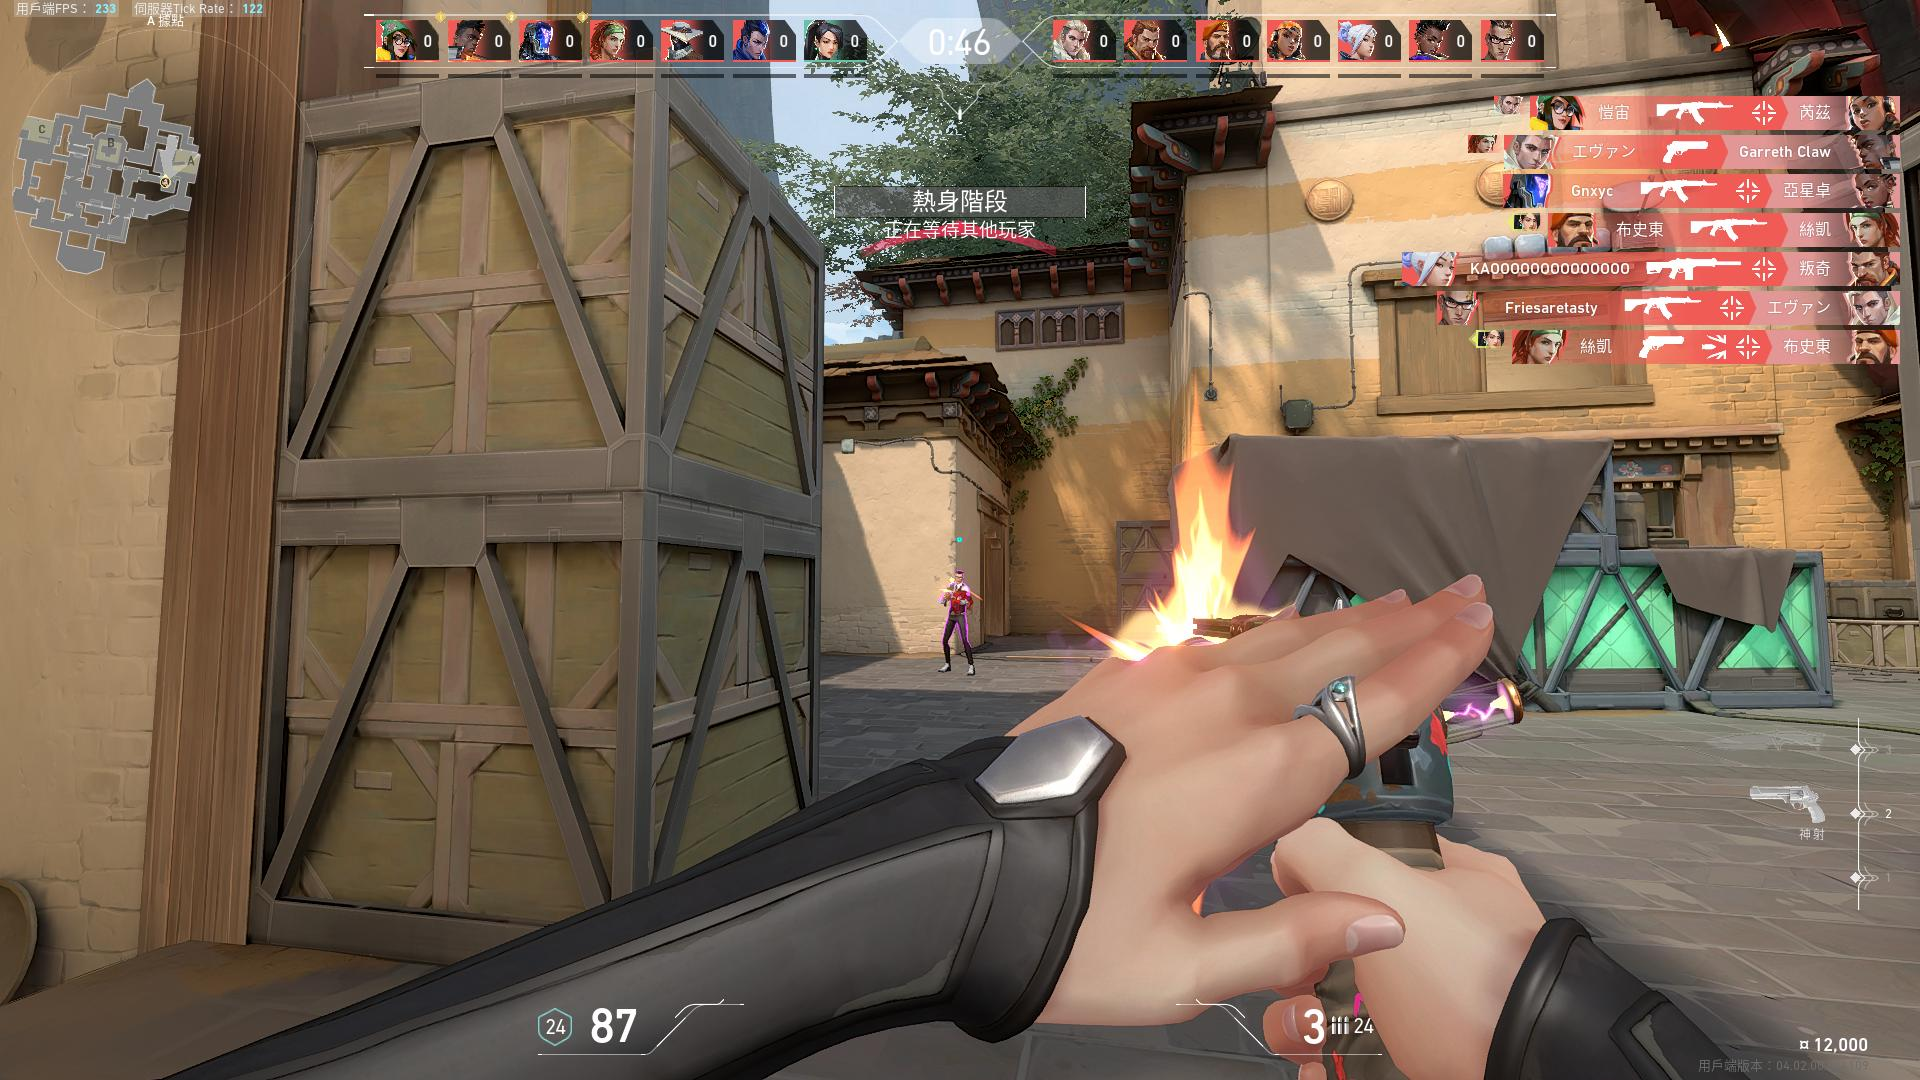enemyBody: (951, 585, 963, 612)
enemyHead: (956, 574, 963, 583)
